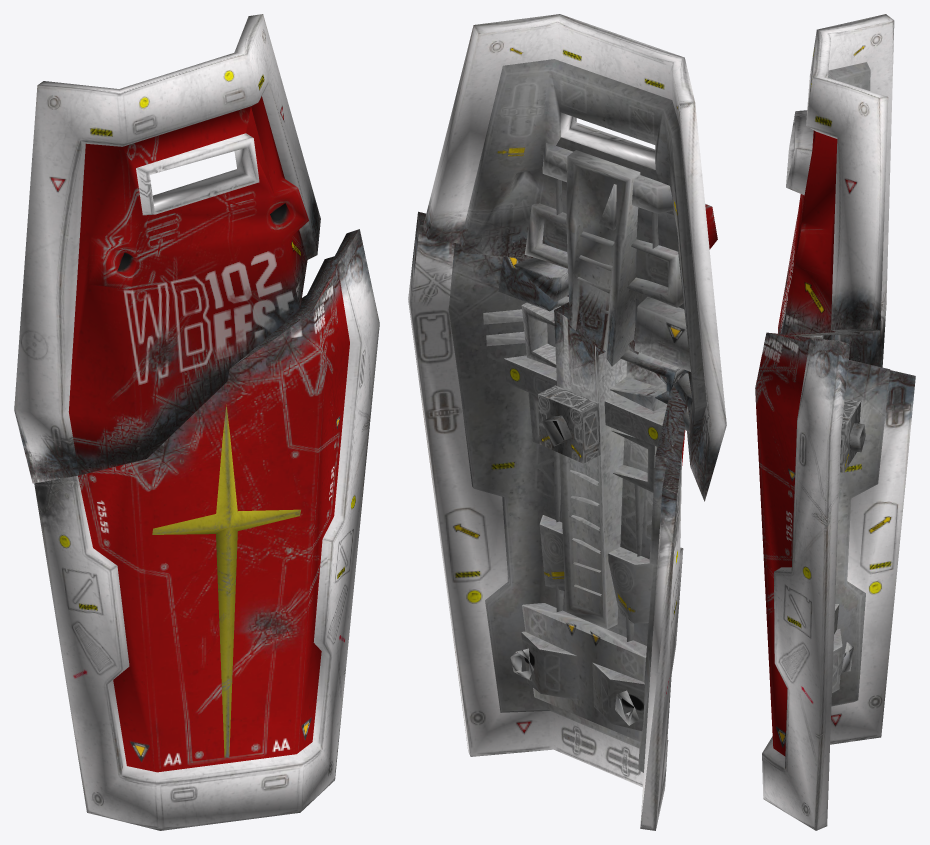
Rendered from Shield_Metors.fbx.
3 renders of one model, left to right at view 1: azimuth 30°, elevation 25°; view 2: azimuth 150°, elevation 25°; view 3: azimuth 270°, elevation 25°, orthographic. The views are drawn at different scales.
Visible parts, largest first — view 1: Shield_Metors; view 2: Shield_Metors; view 3: Shield_Metors.
Boxes of the visible parts, left/top/right/bottom form: Shield_Metors: left=14, top=14, right=379, bottom=830; Shield_Metors: left=408, top=14, right=726, bottom=830; Shield_Metors: left=755, top=14, right=915, bottom=830.
Bounding box in the file's own units: 75.75 × 160 × 32.58.
Materials: 1 (1 with a texture image).
